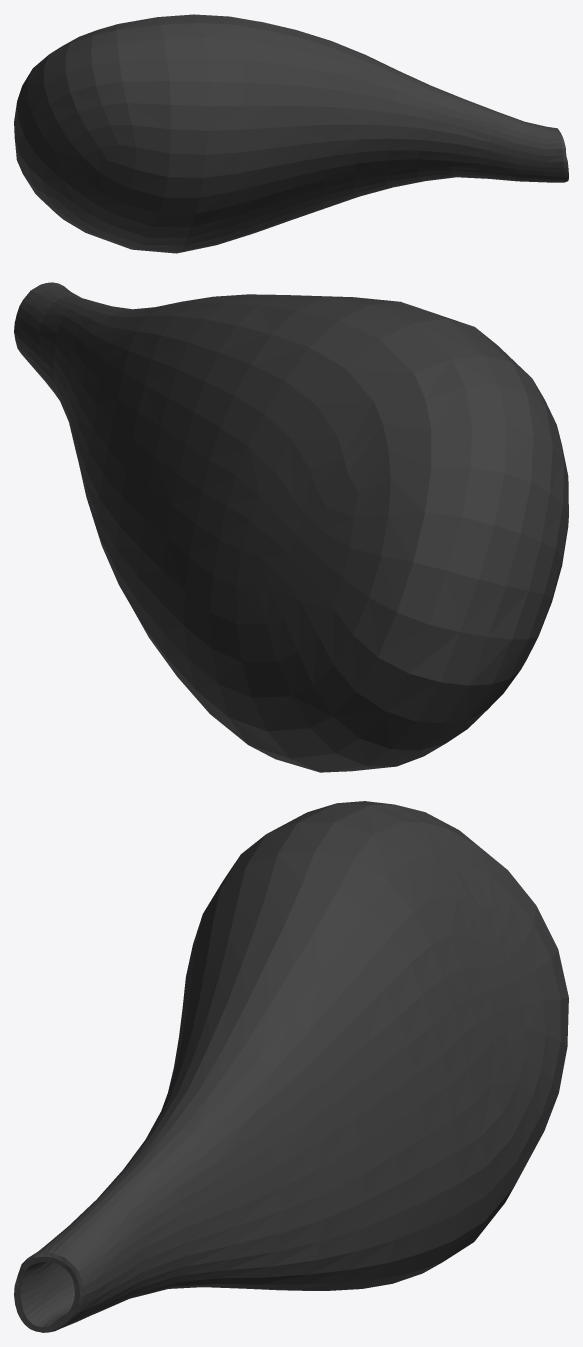
File: bladder_LP.glb
3 views of the same model, one above another, from view 1: azimuth 30°, elevation 25°; view 2: azimuth 150°, elevation 25°; view 3: azimuth 270°, elevation 25° (orthographic). The views are drawn at different scales.
Parts seen in each view (by area): view 1: bladder_LP; view 2: bladder_LP; view 3: bladder_LP.
Part boxes in pixels (x1,y1,x2,y2): bladder_LP: (14,14,568,253); bladder_LP: (14,282,568,772); bladder_LP: (14,801,568,1332).
Bounding box in the file's own units: 0.00756 × 0.00428 × 0.00538.
Materials: 1 (1 with a texture image).
